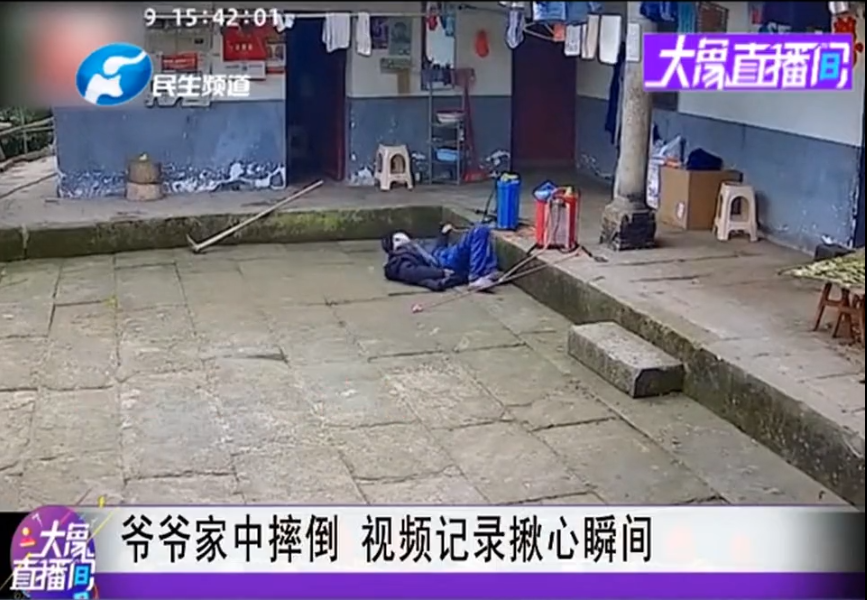fall: (375, 221, 504, 297)
